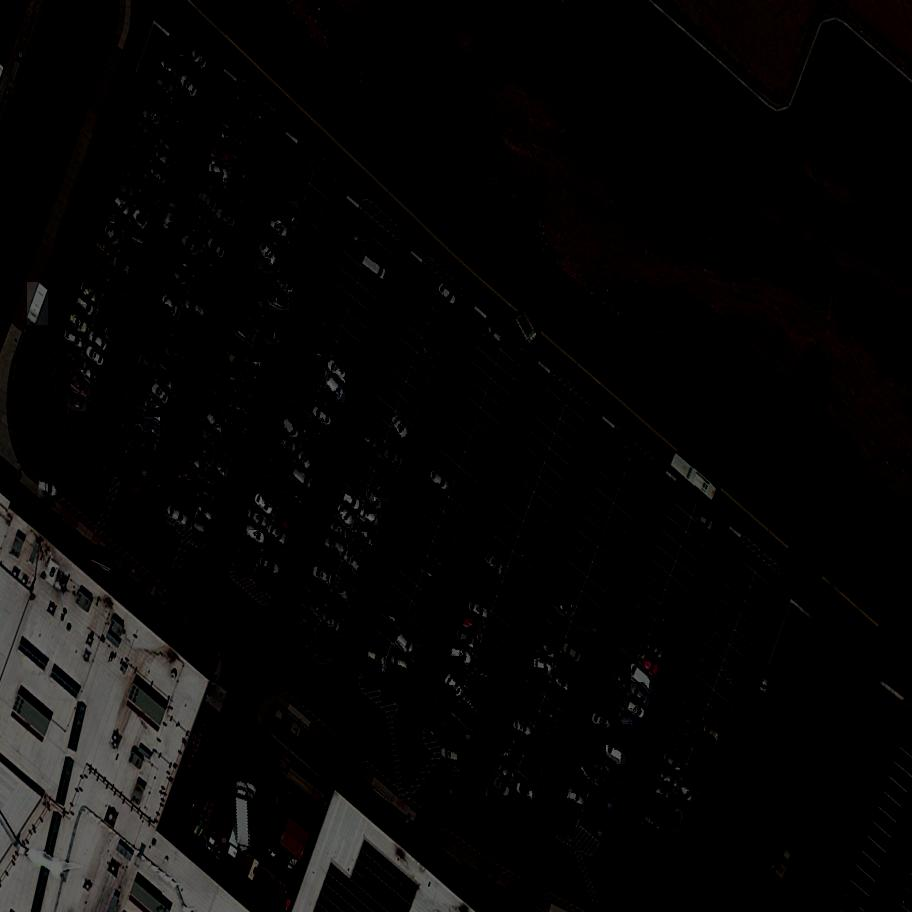large-vehicle: (668, 454, 722, 504), (26, 283, 51, 326), (514, 312, 542, 348), (236, 781, 250, 848)
small-vehicle: (357, 254, 392, 283), (245, 349, 276, 378), (508, 695, 542, 721), (627, 662, 656, 692), (173, 246, 204, 274), (632, 652, 665, 678), (608, 722, 640, 748), (435, 280, 463, 309), (521, 744, 551, 771), (342, 547, 368, 578), (181, 296, 213, 321), (322, 372, 348, 402), (189, 278, 214, 309), (121, 226, 153, 250), (135, 351, 163, 378), (221, 345, 248, 373), (284, 166, 311, 194), (67, 371, 94, 399), (660, 748, 688, 775), (165, 104, 194, 130), (280, 414, 305, 444), (304, 340, 334, 365), (163, 504, 193, 529), (502, 728, 532, 753), (458, 614, 488, 639), (203, 235, 230, 262), (240, 128, 267, 155), (481, 550, 508, 577), (168, 262, 194, 290), (176, 461, 202, 489), (81, 343, 109, 369), (642, 636, 670, 662), (577, 610, 603, 638), (551, 590, 577, 618), (421, 560, 449, 586), (426, 467, 454, 493), (146, 396, 171, 425), (301, 354, 326, 383), (173, 481, 200, 507), (120, 398, 146, 425), (219, 113, 246, 139), (214, 440, 242, 465), (234, 378, 262, 403), (195, 189, 223, 214), (213, 206, 241, 231), (151, 73, 179, 98), (647, 795, 672, 823), (678, 706, 706, 731), (265, 287, 294, 311), (245, 507, 274, 531), (60, 327, 89, 351), (208, 221, 237, 245), (496, 759, 520, 788), (494, 584, 523, 608), (325, 357, 351, 383), (101, 282, 127, 308), (179, 232, 205, 258), (210, 124, 236, 150), (231, 83, 257, 109), (649, 622, 675, 648), (270, 448, 296, 474), (477, 569, 503, 595), (159, 292, 184, 319), (203, 468, 228, 495), (720, 664, 745, 691), (319, 610, 346, 635), (362, 488, 387, 515), (402, 542, 429, 567), (154, 370, 182, 394), (257, 241, 281, 269), (308, 406, 336, 430), (267, 216, 295, 240), (114, 412, 138, 440), (289, 467, 317, 491), (383, 604, 411, 628), (345, 224, 374, 247), (189, 518, 218, 541), (309, 564, 338, 587), (240, 302, 266, 327), (71, 295, 97, 320), (78, 280, 104, 305), (519, 683, 544, 709), (630, 607, 655, 633), (392, 633, 418, 658), (208, 456, 235, 480), (248, 270, 275, 294), (125, 384, 152, 408), (131, 365, 155, 392), (105, 268, 132, 292), (691, 736, 715, 763), (287, 481, 311, 508), (438, 516, 465, 540), (442, 673, 466, 700), (362, 662, 386, 689), (239, 536, 262, 564), (65, 312, 93, 335), (101, 222, 124, 250), (207, 142, 235, 165), (571, 766, 594, 794), (548, 671, 576, 694), (461, 690, 484, 718), (265, 524, 293, 547), (453, 628, 481, 651), (378, 679, 406, 702), (274, 202, 303, 224), (81, 268, 110, 290), (109, 254, 138, 276), (148, 87, 170, 116), (320, 535, 350, 556), (143, 336, 168, 361), (111, 193, 136, 218), (490, 776, 515, 801), (331, 579, 356, 604), (414, 591, 439, 616), (150, 382, 174, 408), (232, 318, 258, 342), (234, 552, 258, 578), (106, 428, 132, 452), (202, 172, 226, 198), (187, 45, 211, 71), (176, 75, 200, 101), (474, 643, 500, 667), (610, 665, 634, 691), (343, 473, 367, 499), (454, 703, 478, 729), (85, 329, 112, 352), (160, 118, 187, 141), (639, 811, 666, 834), (352, 523, 379, 546), (348, 533, 371, 560), (262, 477, 285, 504), (513, 541, 540, 564), (409, 607, 436, 630), (242, 524, 270, 546), (651, 608, 679, 630), (664, 736, 692, 758), (224, 412, 253, 433), (298, 201, 323, 225), (253, 493, 278, 517), (135, 116, 159, 141), (146, 164, 171, 188), (499, 743, 523, 768), (700, 721, 724, 746), (562, 641, 587, 665), (262, 536, 286, 561), (416, 340, 440, 365), (429, 546, 453, 571), (447, 646, 477, 666), (203, 409, 226, 435), (272, 272, 298, 295), (317, 312, 340, 338), (131, 433, 157, 456), (157, 132, 180, 158), (636, 826, 662, 849), (538, 701, 564, 724), (600, 756, 623, 782), (686, 690, 709, 716), (671, 717, 694, 743), (628, 682, 651, 708), (623, 698, 649, 721), (327, 519, 353, 542), (317, 389, 339, 416), (87, 252, 114, 274), (120, 160, 147, 182), (657, 769, 684, 791), (280, 494, 302, 521), (391, 415, 413, 442), (423, 719, 450, 741), (103, 209, 131, 230), (139, 105, 167, 126), (512, 782, 540, 803), (466, 676, 490, 700), (196, 499, 219, 524), (152, 148, 175, 173), (528, 668, 551, 693), (309, 579, 332, 604), (339, 491, 364, 514), (298, 608, 321, 633), (485, 322, 508, 347), (185, 449, 207, 475), (93, 237, 119, 259), (229, 160, 255, 182), (482, 626, 504, 652), (472, 660, 494, 686), (538, 637, 560, 663), (583, 738, 605, 764), (604, 743, 630, 765), (319, 547, 341, 573), (597, 771, 618, 798), (336, 502, 357, 529), (598, 688, 618, 716), (255, 557, 283, 577), (379, 449, 407, 469), (612, 430, 636, 453), (543, 624, 566, 648), (473, 585, 497, 608), (160, 353, 185, 375), (199, 252, 224, 274), (533, 715, 558, 737), (694, 511, 719, 533), (357, 504, 382, 526), (296, 448, 318, 473), (228, 175, 249, 201), (180, 61, 206, 82), (589, 711, 615, 732), (346, 455, 367, 481), (438, 686, 459, 712), (189, 438, 216, 458), (166, 343, 193, 363), (238, 363, 265, 383), (263, 233, 290, 253), (195, 483, 222, 503), (558, 800, 585, 820), (376, 461, 396, 488), (425, 486, 452, 506), (427, 704, 454, 724), (387, 654, 415, 673), (159, 57, 182, 80), (154, 305, 176, 329), (254, 570, 278, 592), (191, 205, 215, 227), (201, 425, 222, 450), (217, 364, 242, 385), (147, 320, 172, 341), (275, 509, 296, 534), (267, 463, 288, 488), (36, 478, 62, 498), (579, 756, 599, 782), (623, 623, 649, 643), (586, 725, 612, 745), (679, 769, 705, 789), (522, 523, 542, 549), (363, 649, 389, 669), (357, 431, 384, 450), (112, 179, 139, 198), (509, 717, 536, 736), (759, 664, 775, 696), (187, 220, 209, 243), (325, 594, 348, 616), (131, 208, 152, 232), (228, 395, 253, 415), (206, 395, 231, 415), (372, 476, 392, 501), (162, 200, 178, 231), (258, 324, 284, 343), (76, 362, 102, 381), (63, 394, 89, 413), (139, 182, 165, 201), (250, 103, 276, 122), (305, 422, 331, 441), (526, 733, 553, 751), (301, 435, 324, 456), (677, 784, 698, 807), (225, 426, 245, 450), (98, 299, 122, 319), (438, 747, 466, 764), (139, 417, 164, 436), (118, 242, 143, 261), (131, 136, 156, 155), (170, 324, 196, 342), (445, 657, 468, 677), (206, 163, 233, 180), (148, 471, 172, 490), (531, 659, 556, 677), (302, 596, 327, 614), (126, 149, 151, 167), (92, 315, 116, 333), (245, 290, 270, 307), (467, 602, 492, 619), (314, 628, 339, 645), (705, 710, 728, 728), (564, 788, 588, 805), (251, 259, 276, 275), (553, 819, 576, 836), (651, 785, 675, 801), (278, 438, 300, 455), (617, 714, 638, 728)
